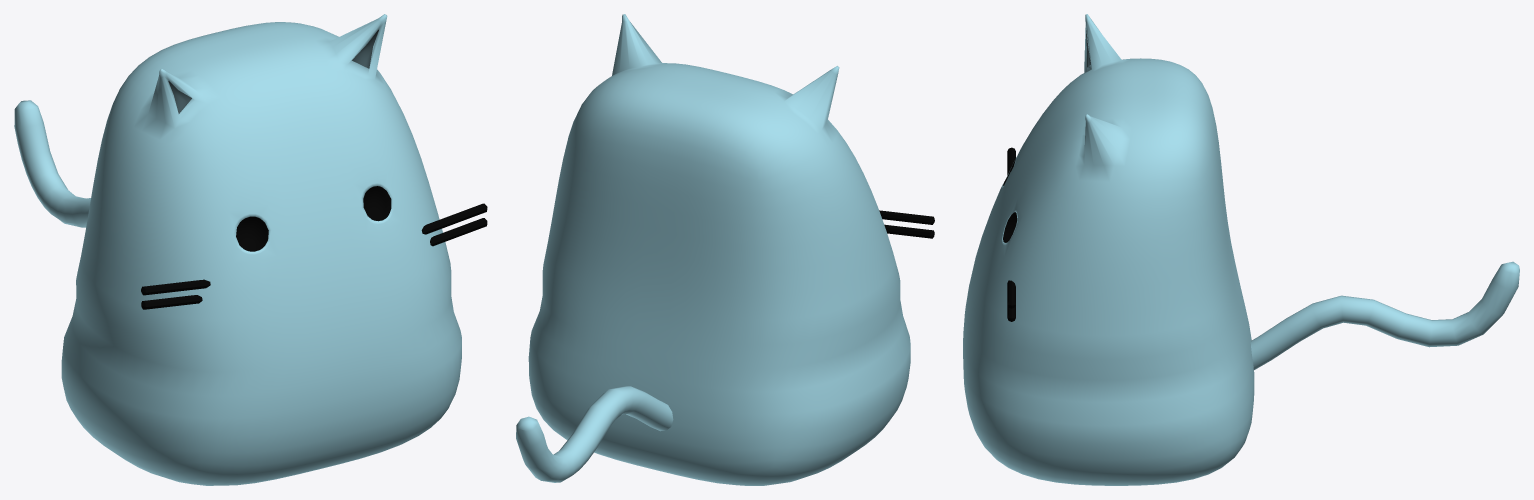
File: Haerinz.fbx
3 views of the same model, side by side, from view 1: azimuth 30°, elevation 25°; view 2: azimuth 150°, elevation 25°; view 3: azimuth 270°, elevation 25° (orthographic). The views are drawn at different scales.
Visible parts, largest first — view 1: CatBody, CatTail, CatWhiskers; view 2: CatBody, CatTail, CatWhiskers; view 3: CatBody, CatTail.
Boxes of the visible parts, x1=… form: CatBody: x1=61, y1=14, x2=461, y2=485; CatTail: x1=14, y1=100, x2=90, y2=227; CatWhiskers: x1=141, y1=203, x2=487, y2=309; CatBody: x1=528, y1=14, x2=910, y2=485; CatTail: x1=516, y1=386, x2=673, y2=482; CatWhiskers: x1=879, y1=210, x2=934, y2=238; CatBody: x1=963, y1=14, x2=1254, y2=485; CatTail: x1=1250, y1=261, x2=1519, y2=369.
Bounding box in the file's own units: 189 × 213 × 285.
